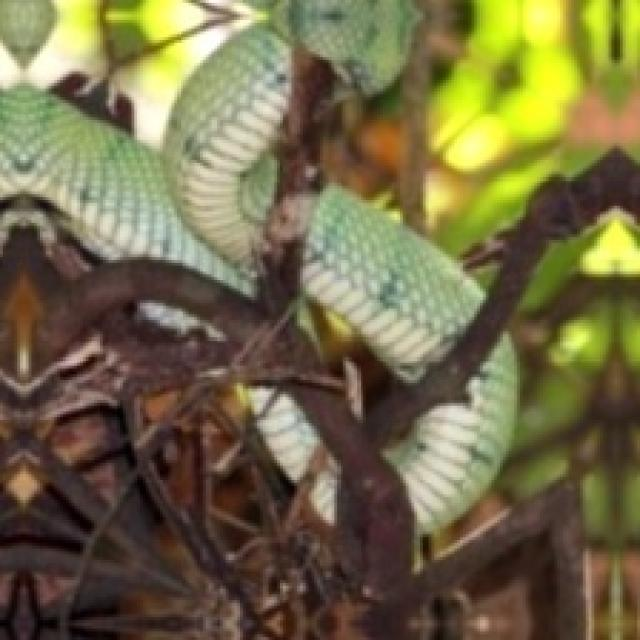north ph temple pitviper: (0, 0, 411, 294), (291, 186, 480, 400), (380, 337, 514, 531)
